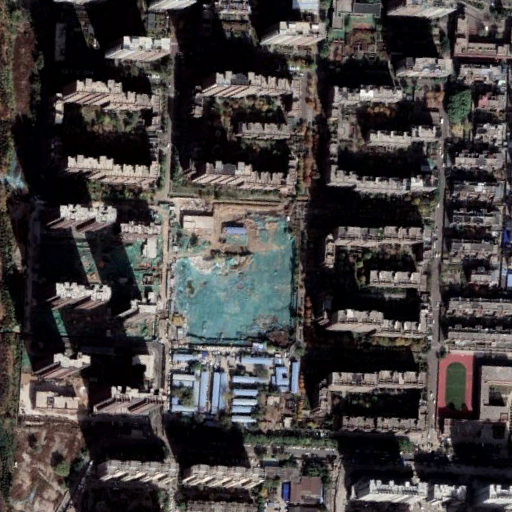cw: (166, 202, 295, 349)
